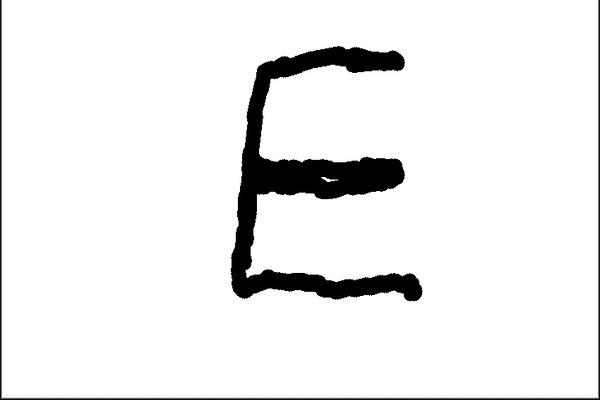E: (220, 42, 431, 308)
